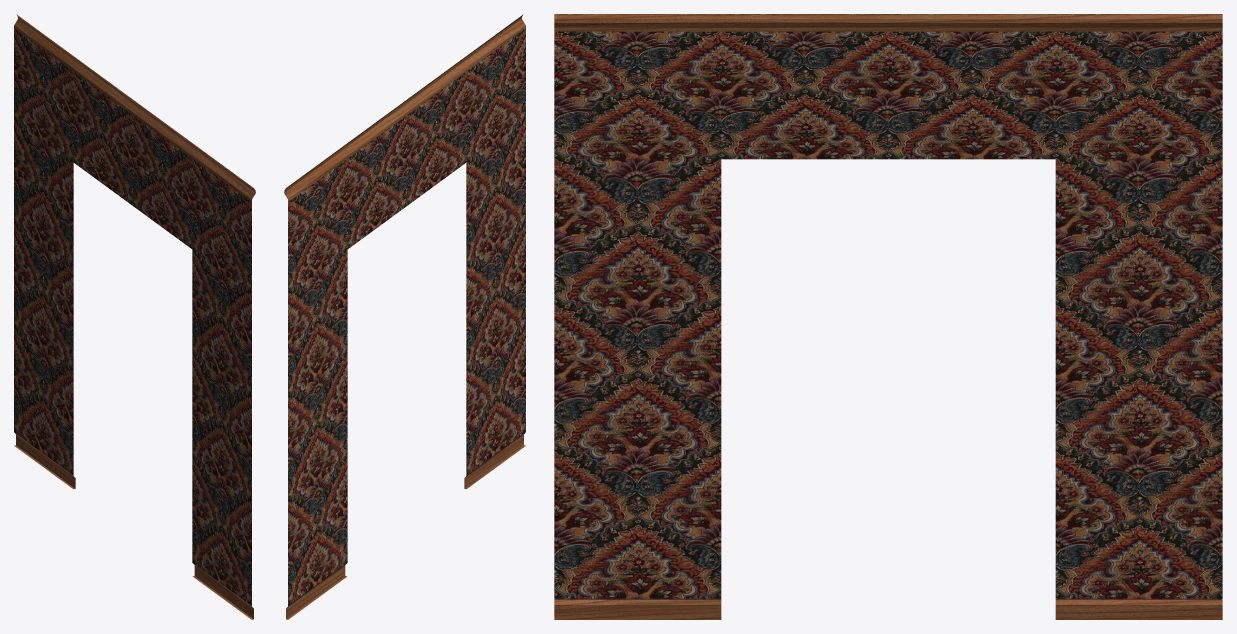
Rendered from flower_power2_door.dae.
3 renders of one model, left to right at view 1: azimuth 30°, elevation 25°; view 2: azimuth 150°, elevation 25°; view 3: azimuth 270°, elevation 25°, orthographic. The views are drawn at different scales.
Visible parts, largest first — view 1: Plane_005; view 2: Plane_005; view 3: Plane_005.
Part boxes in pixels (x1,y1,x2,y2): Plane_005: (14,14,255,619); Plane_005: (284,14,525,619); Plane_005: (554,14,1222,619).
Bounding box in the file's own units: 0.0388 × 4 × 4.
